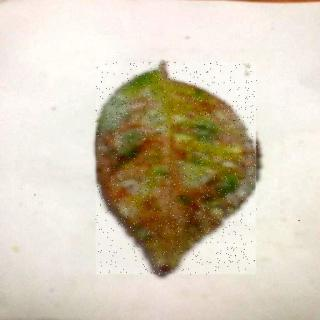Red Leaf Spot: (97, 63, 258, 275)
